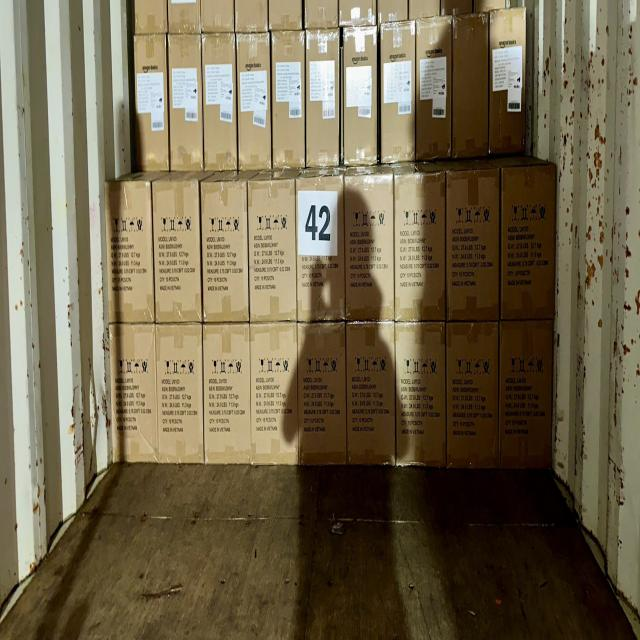Carton: (503, 163, 560, 318), (446, 167, 502, 320), (502, 321, 558, 473), (446, 324, 501, 472), (101, 181, 157, 326), (396, 172, 448, 324), (344, 173, 396, 322), (395, 324, 448, 470), (297, 177, 349, 323), (110, 324, 161, 466), (200, 182, 250, 325), (250, 180, 300, 323), (155, 182, 205, 325), (252, 324, 301, 468), (301, 324, 350, 468), (347, 322, 396, 466), (204, 324, 252, 466), (156, 324, 203, 463)
